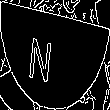N_N: (41, 27, 69, 83)
